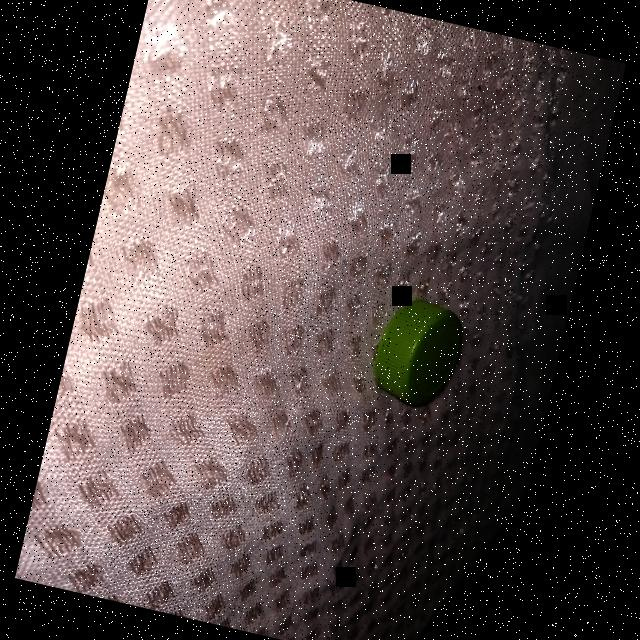plastic_bottle_cap: (367, 292, 470, 411)
